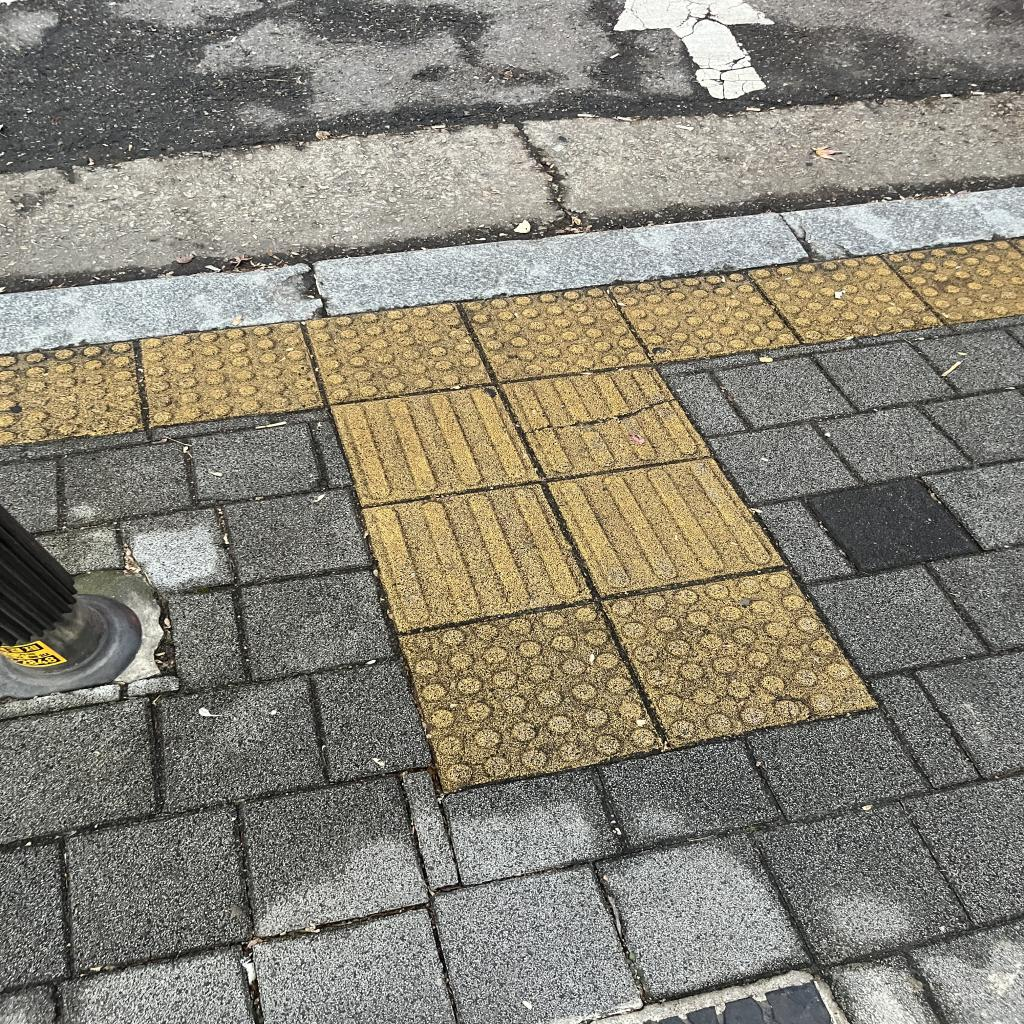Stop block normal: (400, 592, 665, 793), (606, 555, 877, 751), (608, 263, 799, 367), (306, 299, 492, 404), (750, 247, 943, 348), (464, 281, 649, 384), (141, 321, 323, 425)
Straight block broken: (503, 356, 710, 482)
Straight block normal: (547, 447, 784, 600), (363, 477, 593, 632), (332, 378, 538, 507)
